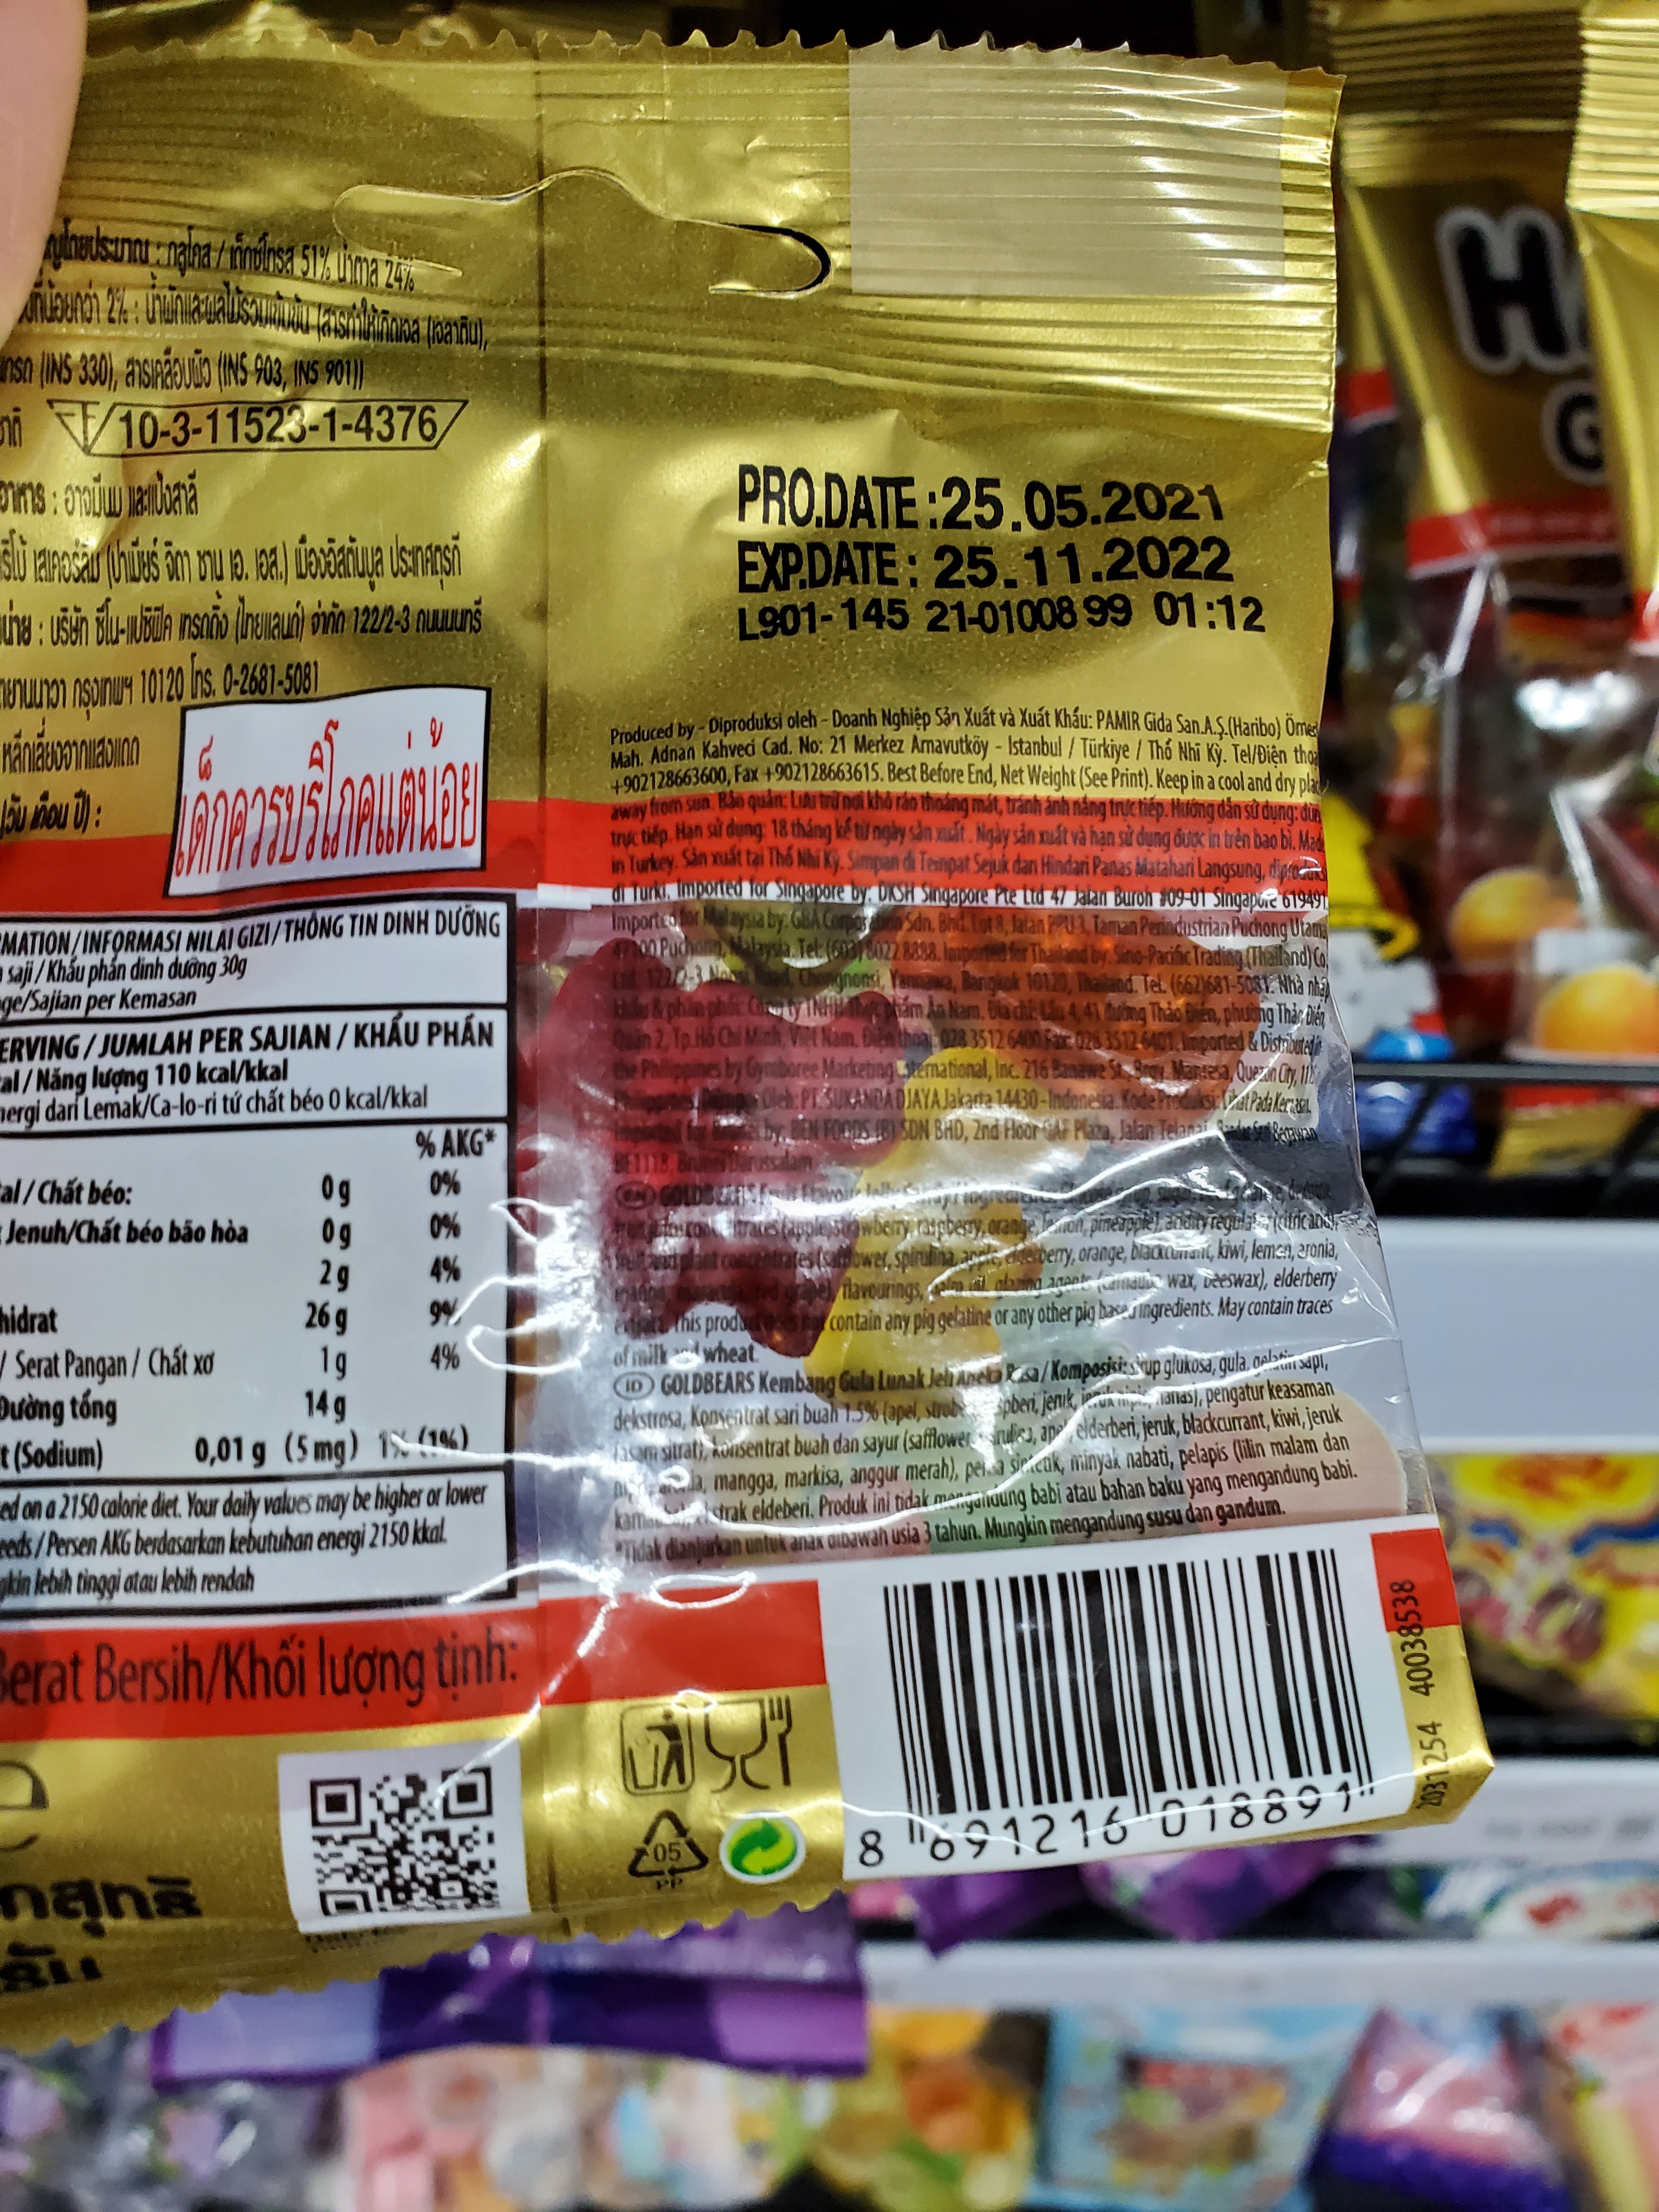barcode: (821, 1552, 1403, 1874)
qr code: (261, 1750, 528, 1940)
